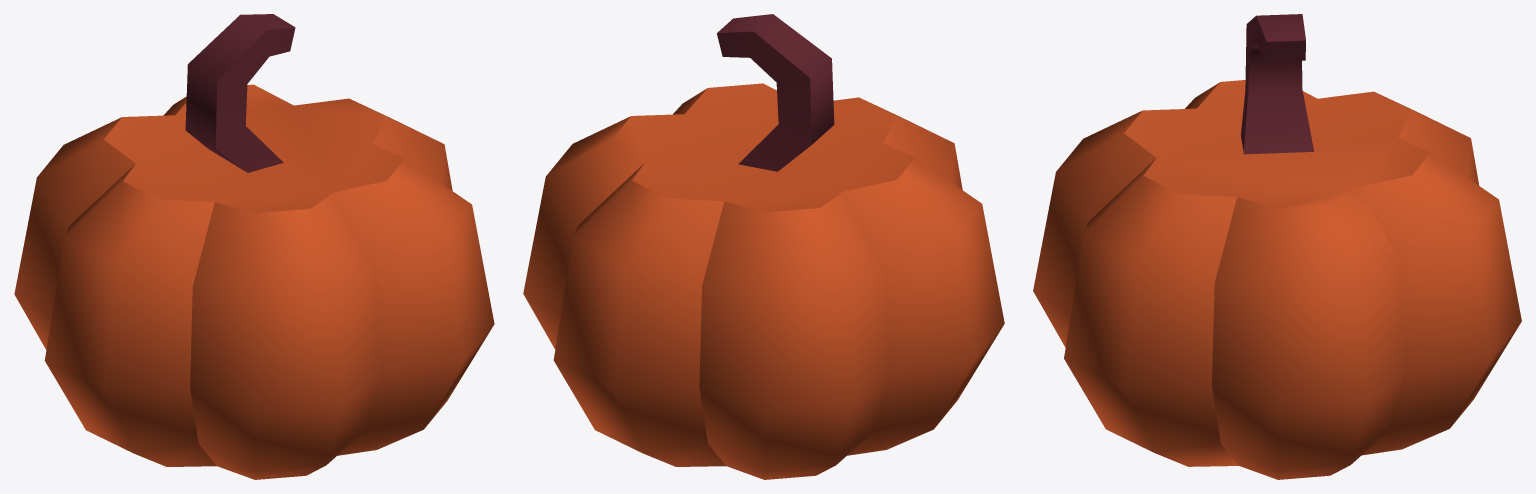
File: Pumpkin.fbx
3 renders of one model, left to right at view 1: azimuth 30°, elevation 25°; view 2: azimuth 150°, elevation 25°; view 3: azimuth 270°, elevation 25°, orthographic.
Parts seen in each view (by area): view 1: Pumpkin; view 2: Pumpkin; view 3: Pumpkin.
Part boxes in pixels (left/top/right/bottom): Pumpkin: left=14, top=14, right=494, bottom=479; Pumpkin: left=523, top=14, right=1004, bottom=479; Pumpkin: left=1033, top=14, right=1521, bottom=479.
Size of the model in its own units: 23.93 by 21.6 by 23.67.
